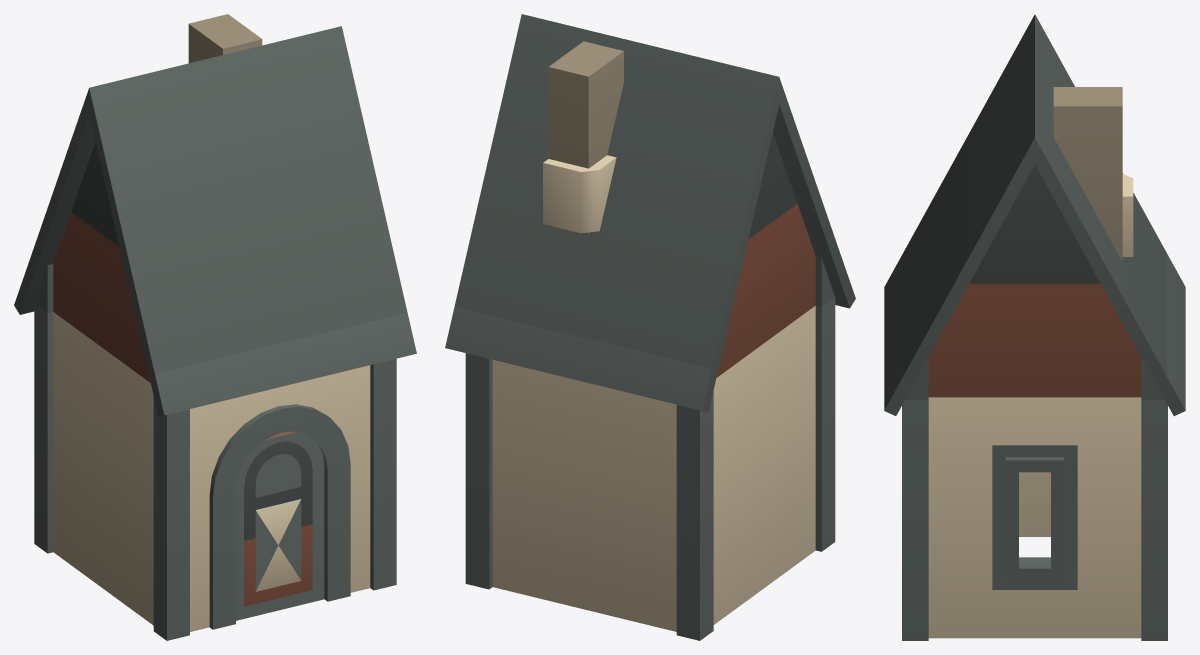
Rendered from home-steep-gable.glb.
3 views of the same model, side by side, from view 1: azimuth 30°, elevation 25°; view 2: azimuth 150°, elevation 25°; view 3: azimuth 270°, elevation 25° (orthographic).
Visible parts, largest first — view 1: roof-high-gable, wall (×2), wall-door, door, wall-window-small, chimney; view 2: roof-high-gable, wall (×2), chimney, wall-window-small, wall-door; view 3: roof-high-gable, wall-window-small, chimney, wall (×2), wall-door.
Part boxes in pixels (x1,y1,x2,y2): roof-high-gable: [14, 26, 416, 416]; wall (×2): [34, 304, 189, 640]; wall-door: [153, 359, 396, 640]; door: [236, 431, 324, 620]; wall-window-small: [370, 358, 396, 590]; chimney: [188, 14, 262, 63]; roof-high-gable: [445, 14, 855, 411]; wall (×2): [465, 297, 835, 640]; chimney: [543, 41, 623, 235]; wall-window-small: [465, 353, 492, 589]; wall-door: [815, 298, 835, 551]; roof-high-gable: [884, 14, 1185, 415]; wall-window-small: [902, 397, 1167, 640]; chimney: [1053, 87, 1133, 261]; wall (×2): [1019, 400, 1167, 640]; wall-door: [902, 400, 928, 640].
Bounding box in the file's own units: 1.1 × 2.11 × 1.13.
Materials: 1 (1 with a texture image).
